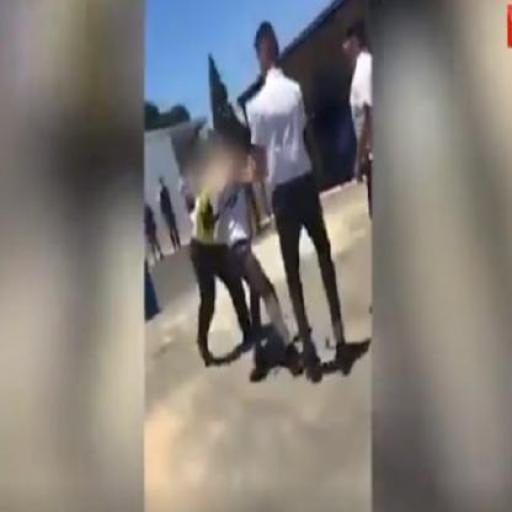Fighting: (144, 17, 374, 383)
